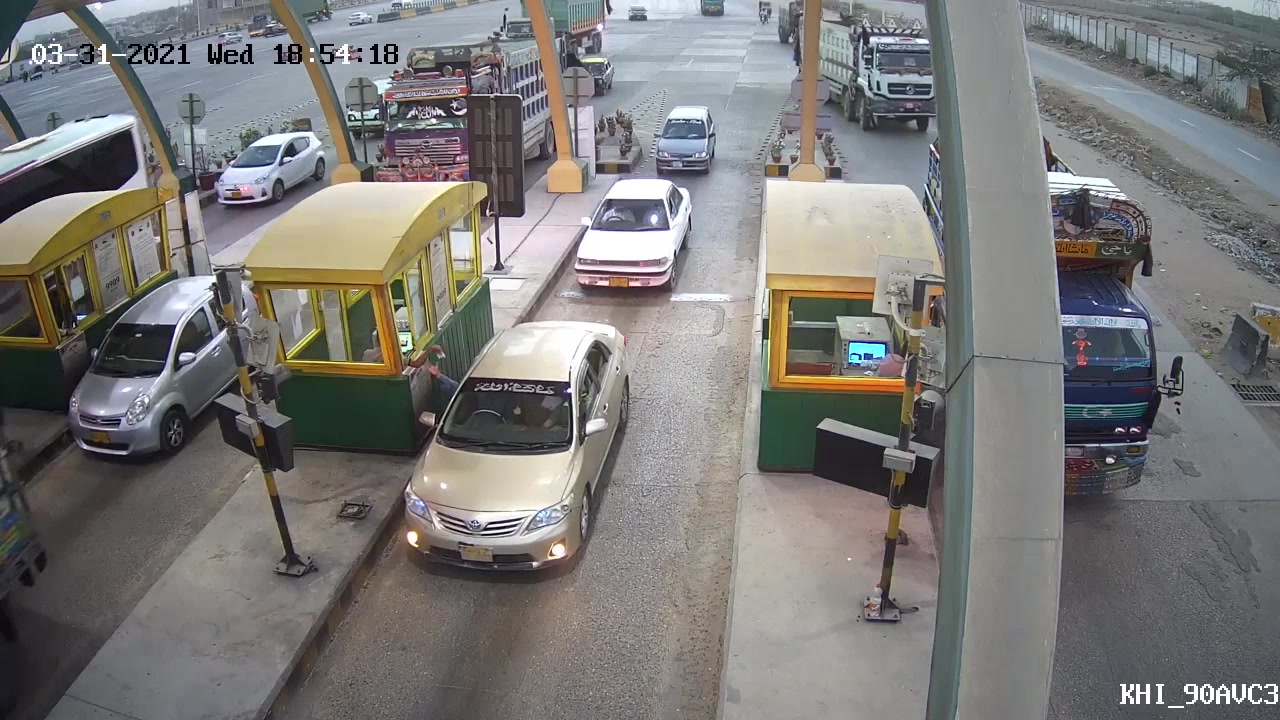F1: (389, 315, 640, 583), (572, 175, 696, 293), (651, 100, 723, 174)
